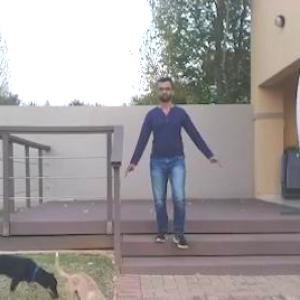land: (126, 80, 218, 252)
